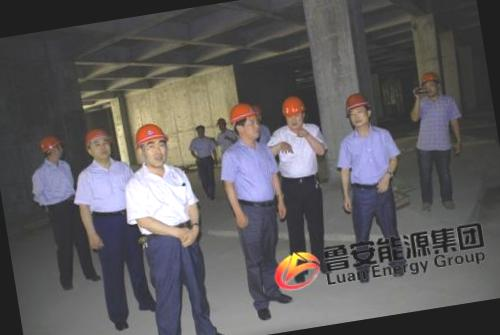no_helmet: (192, 120, 208, 140)
